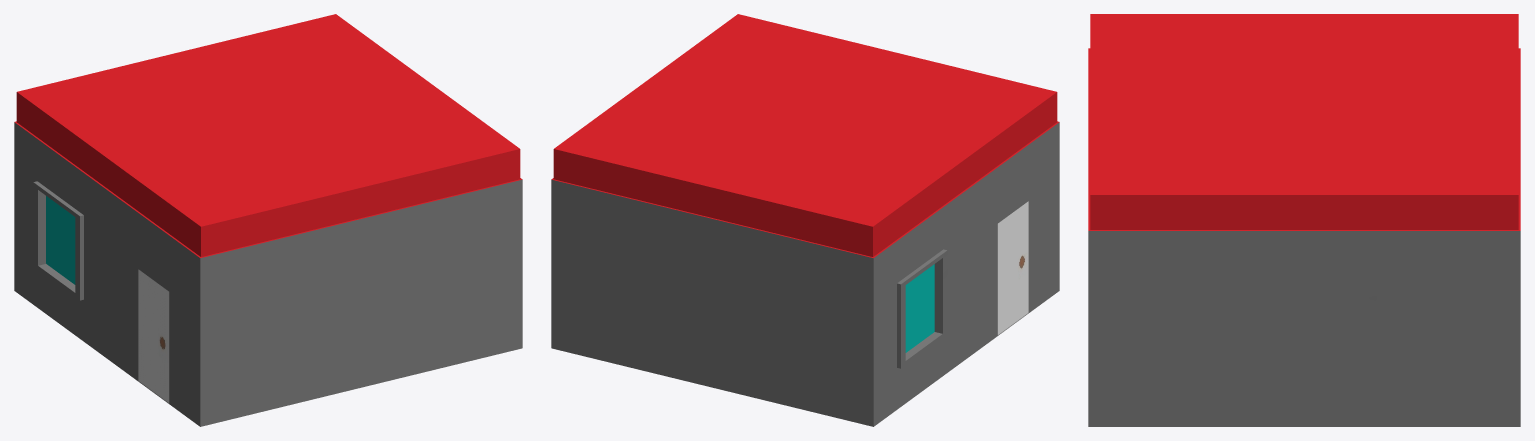
Rendered from house2.obj.
The picture shows the model from 3 angles, left to right: view 1: azimuth 30°, elevation 25°; view 2: azimuth 150°, elevation 25°; view 3: azimuth 270°, elevation 25°; orthographic projection. The views are drawn at different scales.
Visible parts, largest first — view 1: 立方体.001_立方体.004; view 2: 立方体.001_立方体.004; view 3: 立方体.001_立方体.004.
Boxes of the visible parts, x1=… form: 立方体.001_立方体.004: x1=14, y1=14, x2=522, y2=426; 立方体.001_立方体.004: x1=551, y1=14, x2=1059, y2=426; 立方体.001_立方体.004: x1=1088, y1=14, x2=1520, y2=426.
Size of the model in its own units: 10.12 by 5.9 by 10.
1 material, 1 textured.
